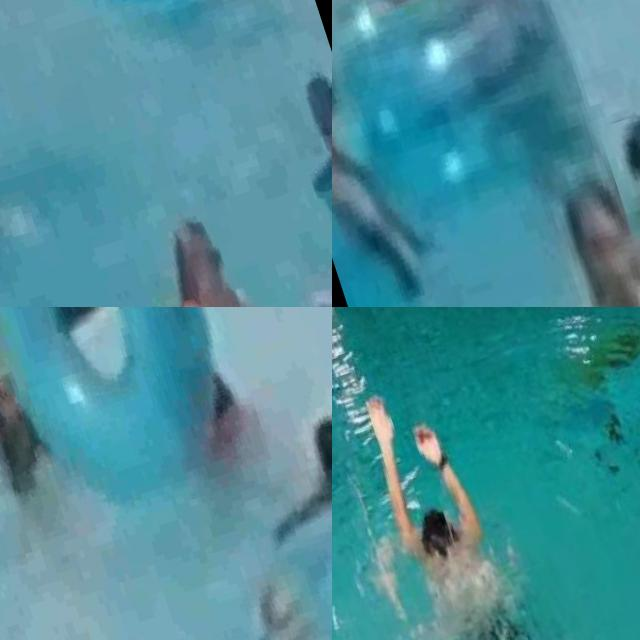drowning: (341, 358, 545, 640), (217, 354, 332, 556), (0, 133, 69, 307), (598, 105, 640, 240)
swimming: (332, 0, 416, 275), (108, 191, 303, 307), (540, 167, 640, 307), (268, 54, 332, 200)
